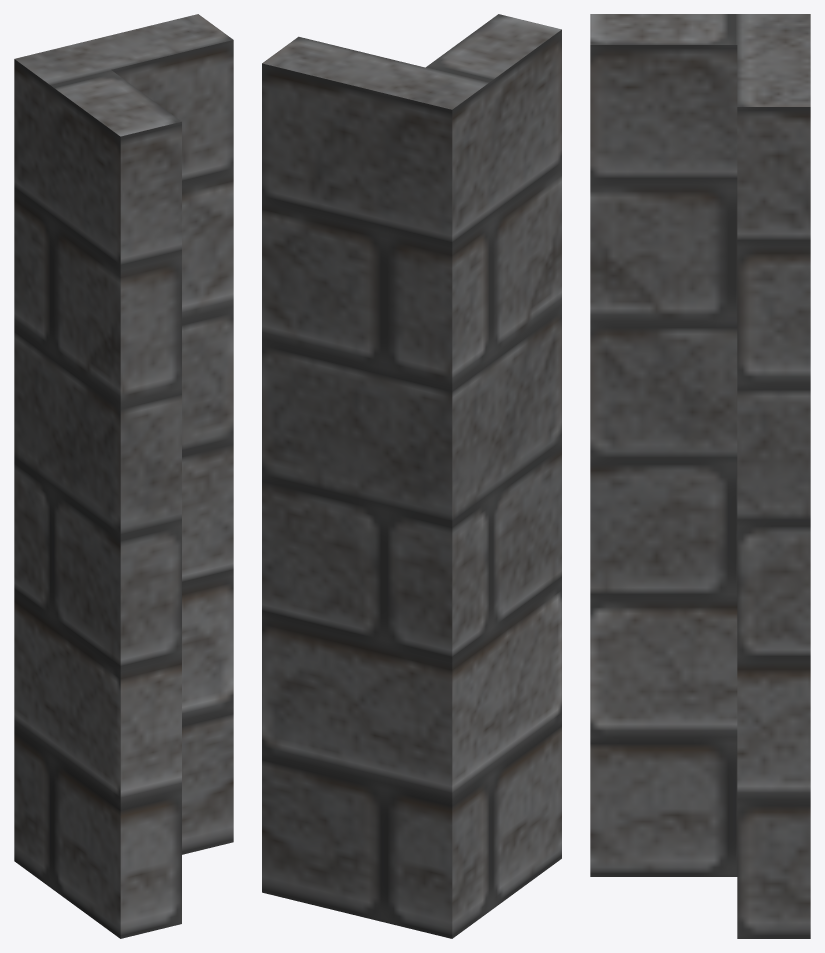
The model's file is corner_wall.glb.
The picture shows the model from 3 angles, left to right: view 1: azimuth 30°, elevation 25°; view 2: azimuth 150°, elevation 25°; view 3: azimuth 270°, elevation 25°; orthographic projection. The views are drawn at different scales.
Visible parts, largest first — view 1: CornerWall; view 2: CornerWall; view 3: CornerWall.
Part boxes in pixels (x1,y1,x2,y2): CornerWall: [14, 14, 233, 938]; CornerWall: [262, 14, 561, 938]; CornerWall: [590, 14, 810, 938].
Size of the model in its own units: 0.6 by 2.5 by 0.6.
1 material, 1 textured.
